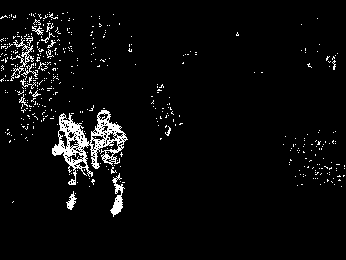person: (50, 113, 96, 212), (90, 108, 128, 217)
